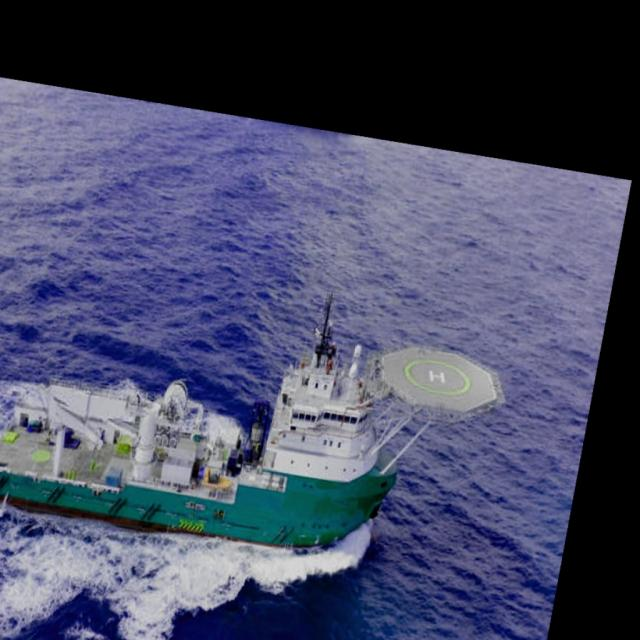helipad: (400, 356, 471, 396)
